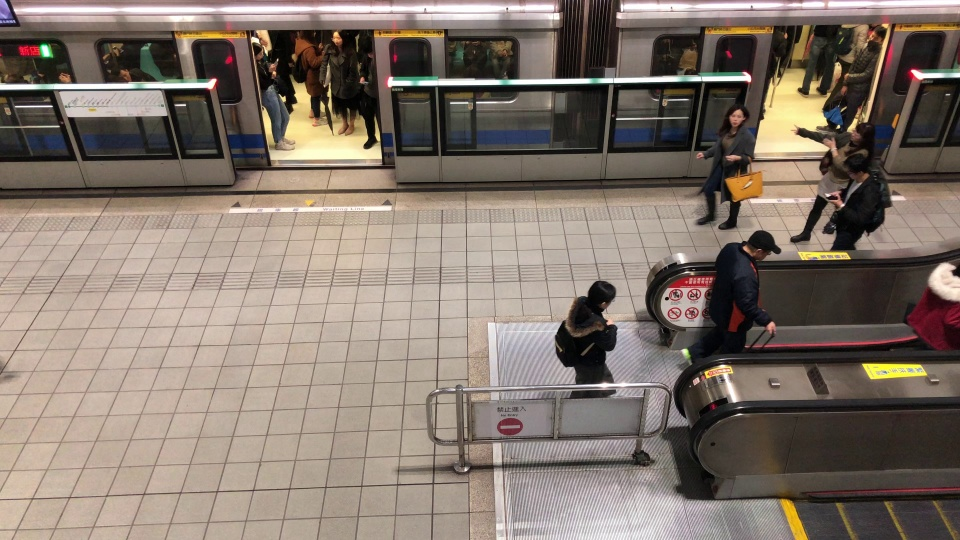person_head: (586, 279, 617, 316), (747, 229, 781, 261), (842, 153, 872, 182), (848, 121, 876, 148), (723, 106, 748, 134), (866, 26, 888, 52), (362, 34, 375, 60), (298, 28, 317, 43), (331, 29, 346, 47), (250, 41, 264, 60), (275, 29, 290, 43), (950, 258, 960, 277)
person_vbox: (677, 228, 782, 361), (787, 120, 877, 238), (552, 279, 619, 400), (816, 25, 888, 132), (694, 106, 756, 229), (897, 258, 960, 360), (832, 153, 888, 254), (249, 40, 296, 151), (317, 29, 360, 137), (285, 29, 331, 126), (353, 34, 384, 149), (267, 29, 299, 114)
